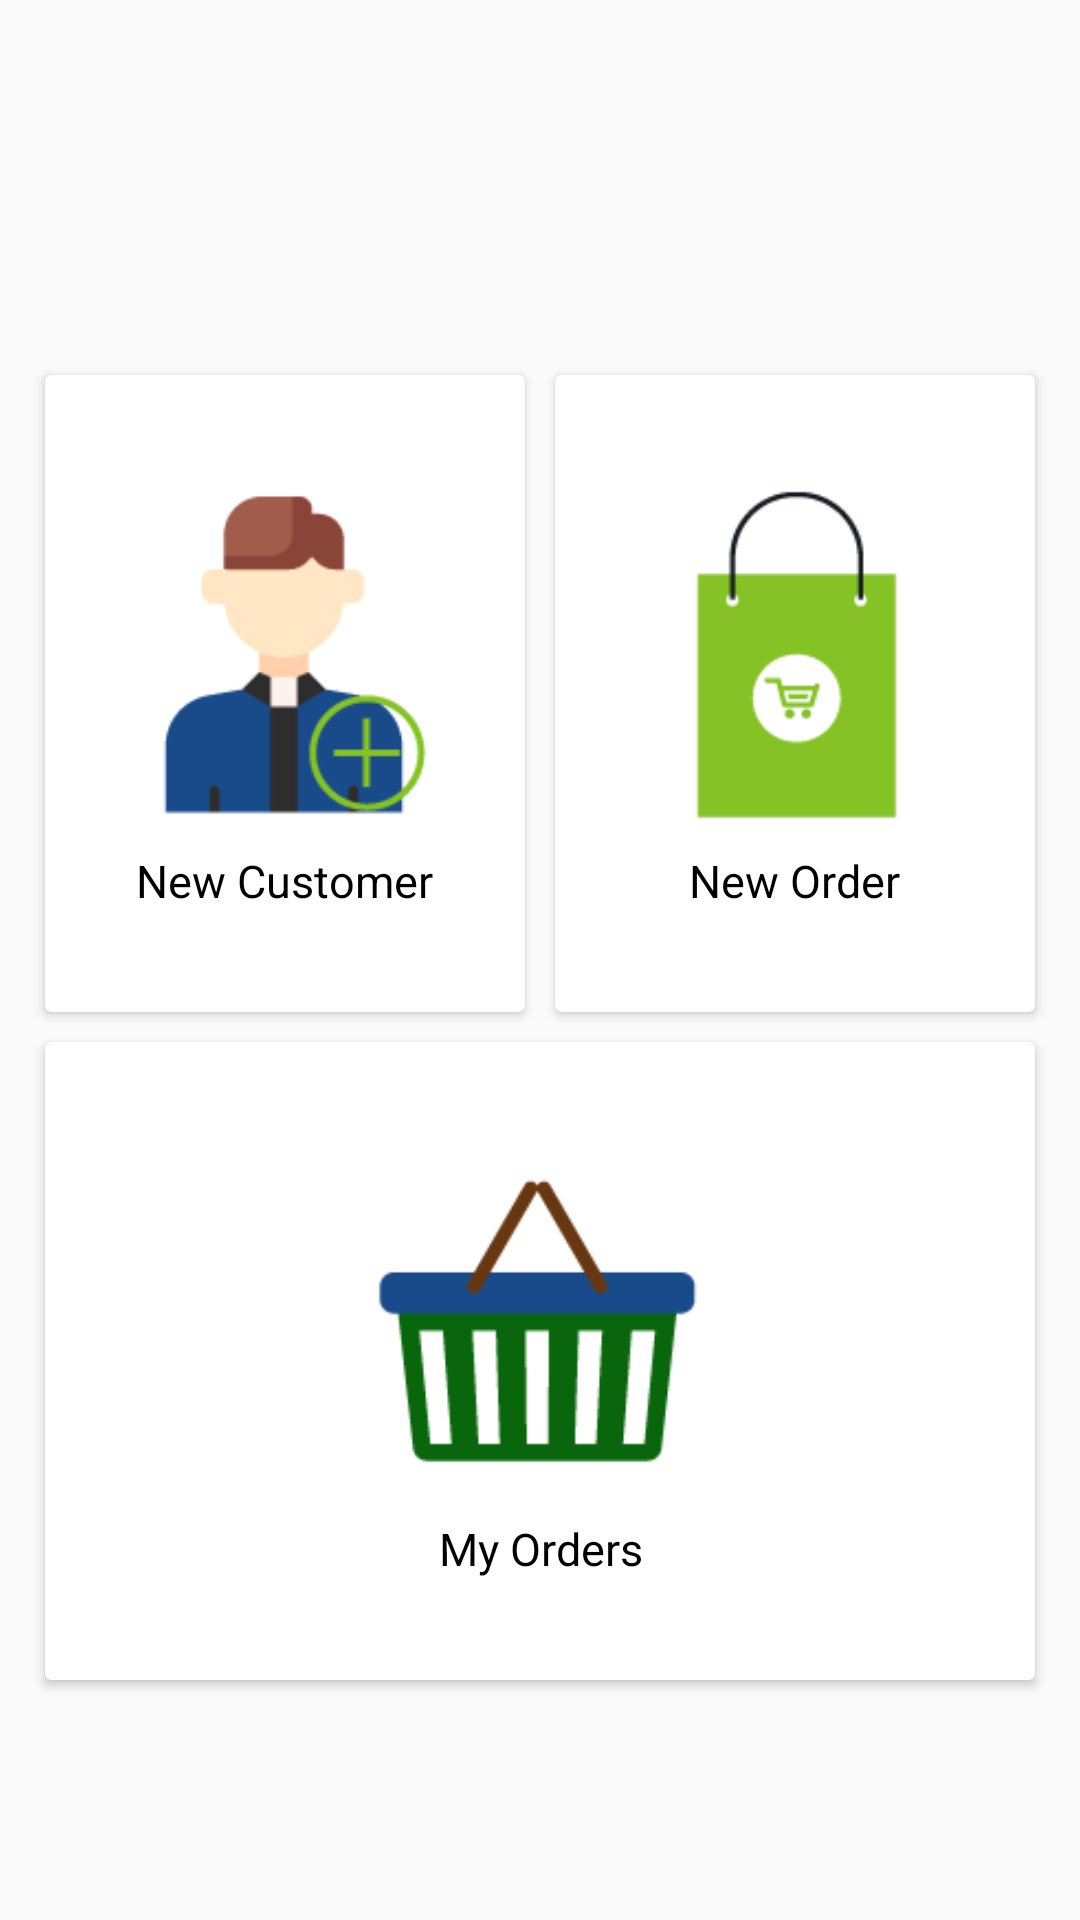

Screen size 1080x1920. Icon name, then its center in pixels as point (x, y):
basket: point (537, 1321)
